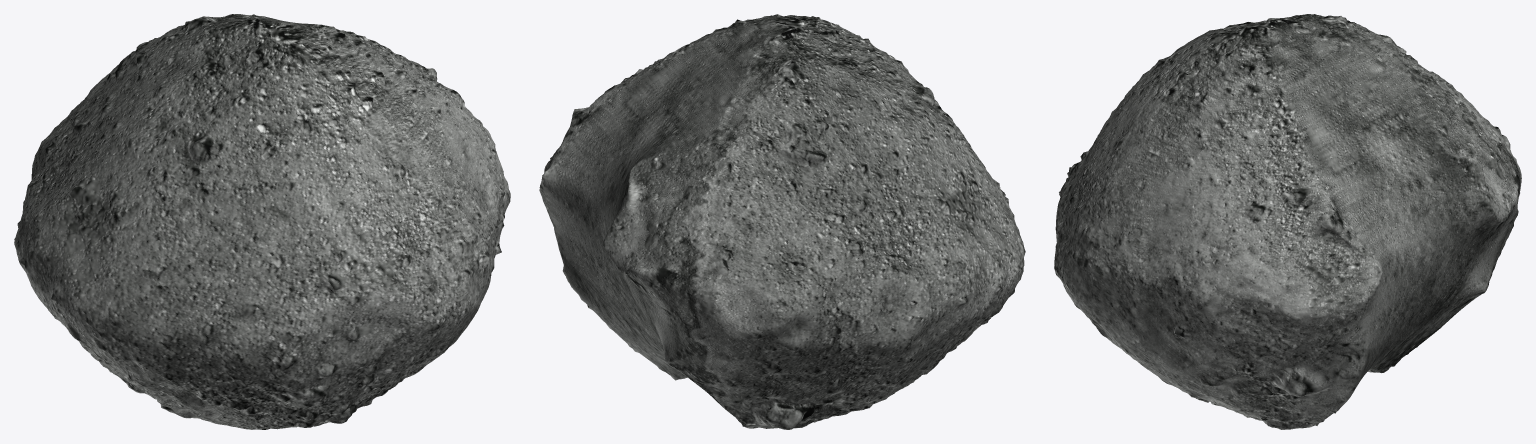
The model's file is astro_bennus.glb.
The picture shows the model from 3 angles, left to right: view 1: azimuth 30°, elevation 25°; view 2: azimuth 150°, elevation 25°; view 3: azimuth 270°, elevation 25°; orthographic projection. The views are drawn at different scales.
Visible parts, largest first — view 1: asteroid1_2; view 2: asteroid1_2; view 3: asteroid1_2.
Part boxes in pixels (bbox=[...]): asteroid1_2: bbox=[14, 14, 510, 429]; asteroid1_2: bbox=[539, 14, 1025, 429]; asteroid1_2: bbox=[1054, 14, 1521, 429].
Bounding box in the file's own units: 86.01 × 68.89 × 80.88.
Materials: 1 (1 with a texture image).
